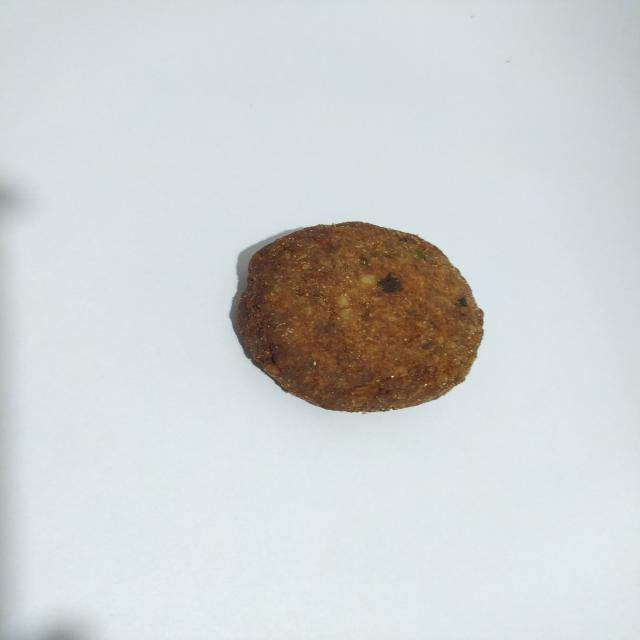Food: (220, 211, 495, 426)
